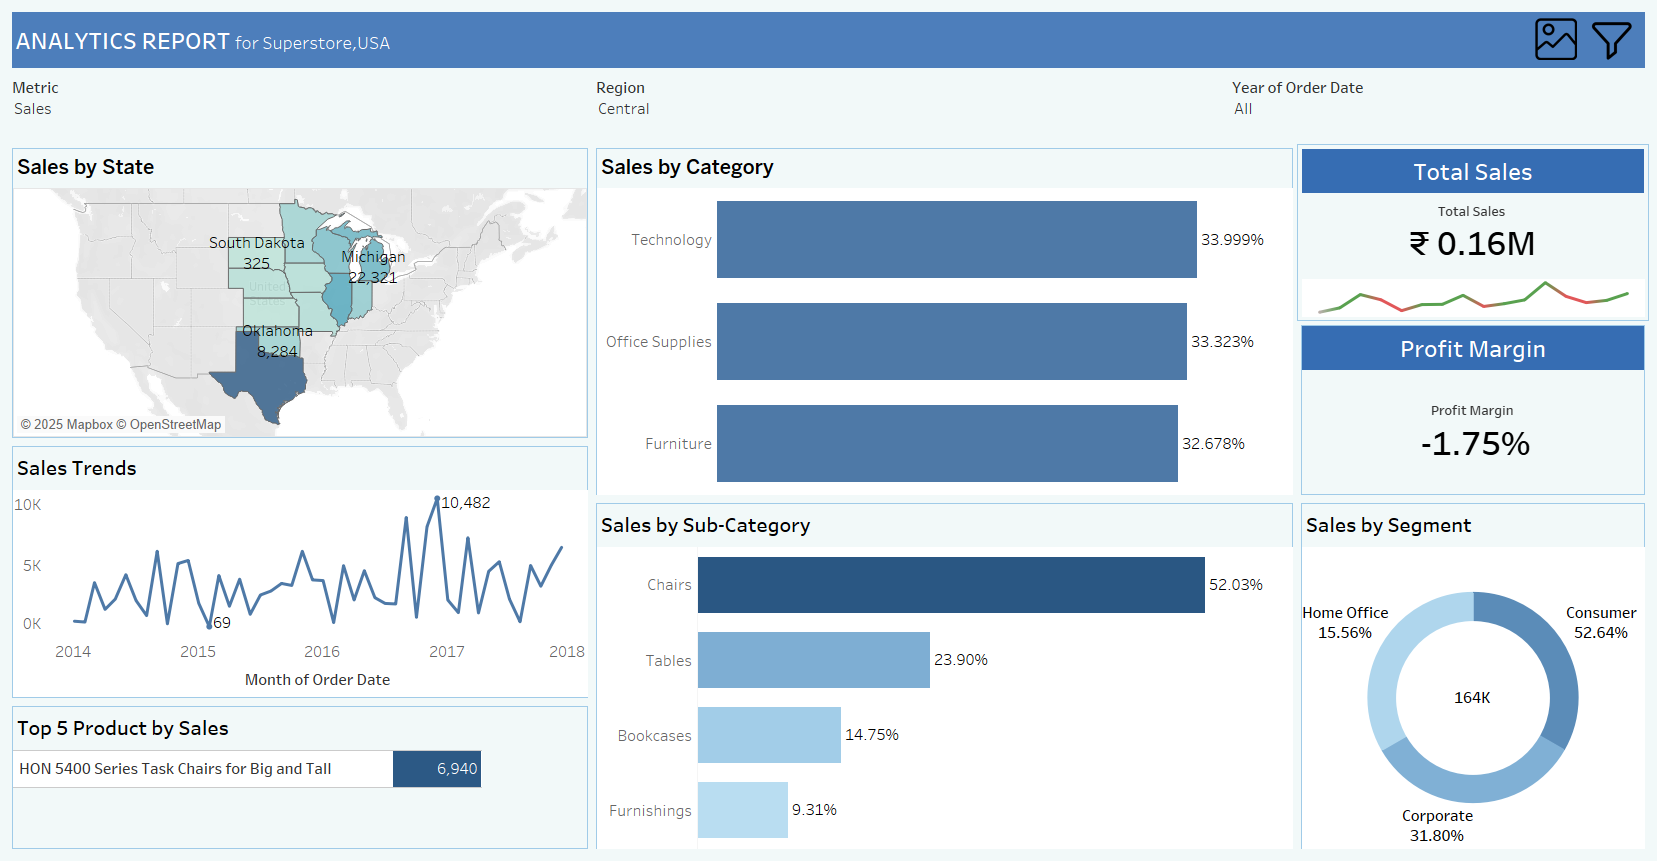

What the dashboard file says about the page in this screenshot:
{"tool":"tableau","page":{"name":"Sales_Performance_Dashboard","canvas":[1000,1000],"units":"permille","ordinal":0},"visuals":[{"type":"text","box":[4.8,9.3,990.3,74.3]},{"type":"dashboard-object","box":[955.3,18.6,34.4,54.6]},{"type":"parameter","param":"[Parameters].[Parameter 1]","box":[4.8,83.6,352.4,83.6]},{"type":"filter","title":"Category","param":"[federated.0i3b7tj1vci0na0zzd9rh0q8xuf6].[none:Region:nk]","box":[357.3,83.6,383.8,83.6]},{"type":"filter","title":"Category","param":"[federated.0i3b7tj1vci0na0zzd9rh0q8xuf6].[yr:Order Date:ok]","box":[741.1,83.6,254.1,83.6]},{"type":"worksheet","title":"Map","mark":"Automatic","box":[4.8,167.2,352.4,346.2]},{"type":"worksheet","title":"Category","mark":"Bar","rows":["Category"],"cols":["Calculation_1238208489104113672"],"box":[357.3,167.2,425.3,411.7]},{"type":"worksheet","title":"Total Sales","mark":"Automatic","box":[783.1,168.4,211.4,151]},{"type":"worksheet","title":"Sparkline","mark":"Line","rows":["Sales"],"cols":["Order Date"],"box":[783.1,319.4,211.4,52.6]},{"type":"worksheet","title":"Profit Margin","mark":"Automatic","box":[782.5,373.1,212.6,205.9]},{"type":"worksheet","title":"Trends","mark":"Line","rows":["Calculation_1238208489104113672"],"cols":["Order Date"],"box":[4.8,513.5,352.4,301.8]},{"type":"worksheet","title":"Sub-Category","mark":"Automatic","rows":["Sub-Category"],"cols":["Calculation_1238208489104113672"],"box":[357.3,579,425.3,411.7]},{"type":"worksheet","title":"Segment","mark":"Automatic","rows":["Calculation_1238208489135190029","Calculation_1238208489135190029"],"box":[782.5,579,212.6,411.7]},{"type":"worksheet","title":"Top 5","mark":"Square","rows":["Product Name"],"box":[4.8,815.2,352.4,175.5]}]}

Visuals, with their boxes on the dashboard's canvas, which has no fixed pixel size, in thousandths of its width and height (x1, y1, x2, y2). These are canvas units, not pixel positions in the 1657x861 screenshot, which may show the page scaled, cropped or inside an application window:
text: left=5, top=9, right=995, bottom=84
dashboard-object: left=955, top=19, right=990, bottom=73
parameter: left=5, top=84, right=357, bottom=167
"Category" filter: left=357, top=84, right=741, bottom=167
"Category" filter: left=741, top=84, right=995, bottom=167
"Map" worksheet: left=5, top=167, right=357, bottom=513
"Category" worksheet (Bar marks): left=357, top=167, right=783, bottom=579
"Total Sales" worksheet: left=783, top=168, right=994, bottom=319
"Sparkline" worksheet (Line marks): left=783, top=319, right=994, bottom=372
"Profit Margin" worksheet: left=782, top=373, right=995, bottom=579
"Trends" worksheet (Line marks): left=5, top=514, right=357, bottom=815
"Sub-Category" worksheet: left=357, top=579, right=783, bottom=991
"Segment" worksheet: left=782, top=579, right=995, bottom=991
"Top 5" worksheet (Square marks): left=5, top=815, right=357, bottom=991
